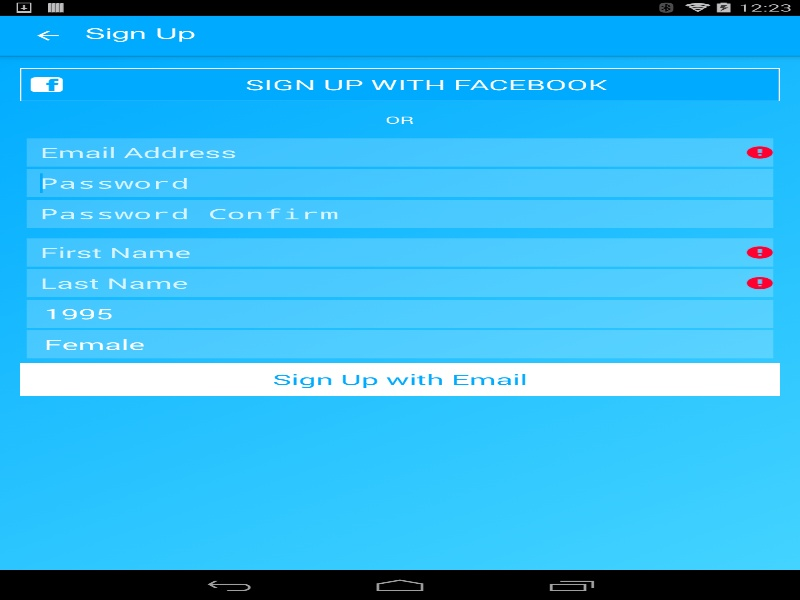Button: (20, 68, 780, 101), (20, 362, 780, 395), (10, 18, 85, 53)
Input: (26, 138, 773, 166), (26, 169, 773, 197), (26, 199, 773, 227), (26, 238, 773, 266), (26, 269, 773, 297)
